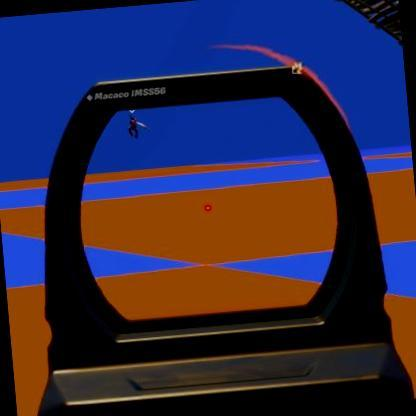person: (124, 113, 138, 139)
